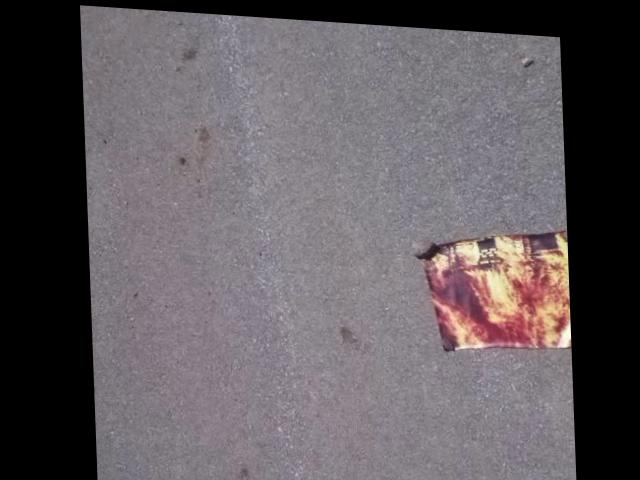fire-poster: (409, 210, 568, 354)
